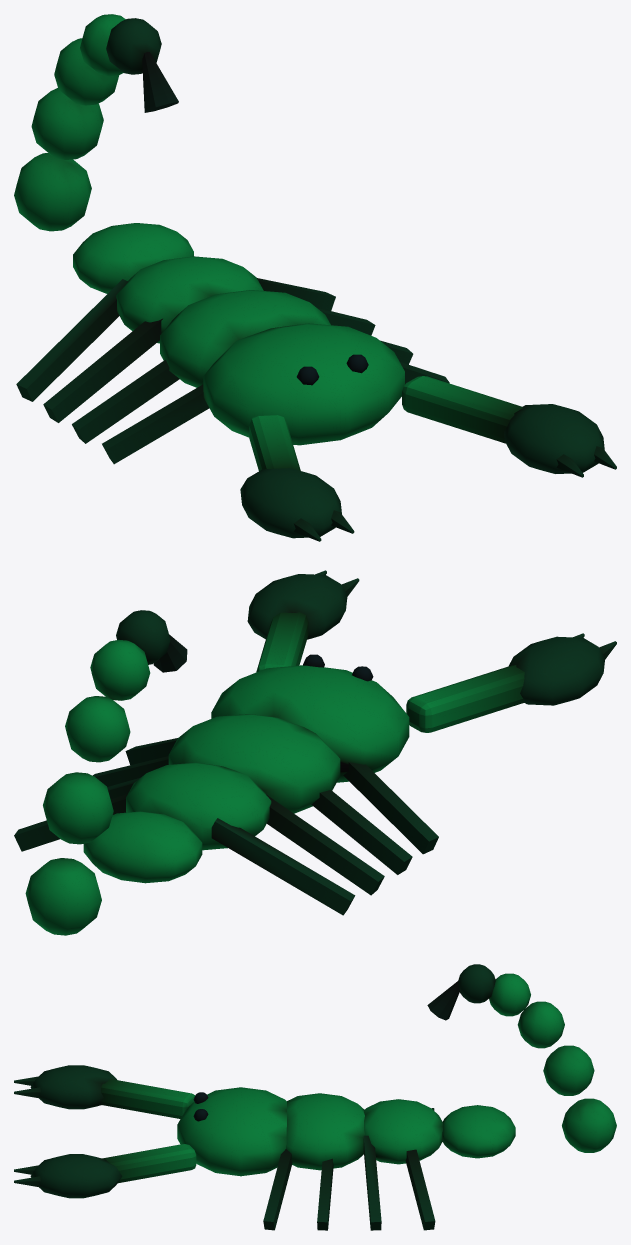
The model's file is scorpion.glb.
3 renders of one model, top to bottom at view 1: azimuth 30°, elevation 25°; view 2: azimuth 150°, elevation 25°; view 3: azimuth 270°, elevation 25°, orthographic. The views are drawn at different scales.
Parts seen in each view (by area): view 1: body, tail, claw_R, claw_L; view 2: body, tail, claw_L, claw_R; view 3: body, tail, claw_R, claw_L.
Part boxes in pixels (x1=…): body: x1=16, y1=223, x2=449, y2=464; tail: x1=14, y1=14, x2=178, y2=231; claw_R: x1=402, y1=376, x2=616, y2=477; claw_L: x1=240, y1=415, x2=354, y2=541; body: x1=14, y1=654, x2=438, y2=915; tail: x1=25, y1=610, x2=187, y2=935; claw_L: x1=406, y1=633, x2=616, y2=732; claw_R: x1=247, y1=570, x2=359, y2=672; body: x1=177, y1=1087, x2=515, y2=1230; tail: x1=427, y1=964, x2=616, y2=1152; claw_R: x1=14, y1=1144, x2=196, y2=1198; claw_L: x1=14, y1=1065, x2=195, y2=1118.
Bounding box in the file's own units: 0.4151 × 0.3542 × 0.917.
Materials: 1 (1 with a texture image).
